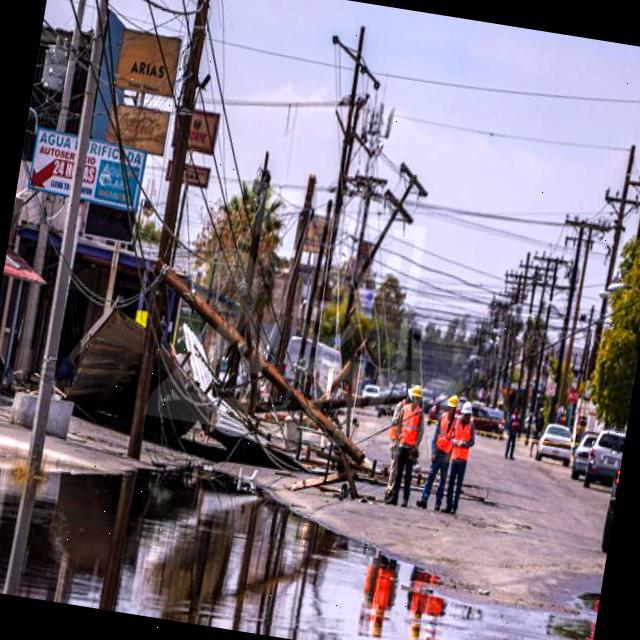Broken Pole: (156, 258, 368, 497), (256, 327, 421, 443), (353, 157, 429, 294)
